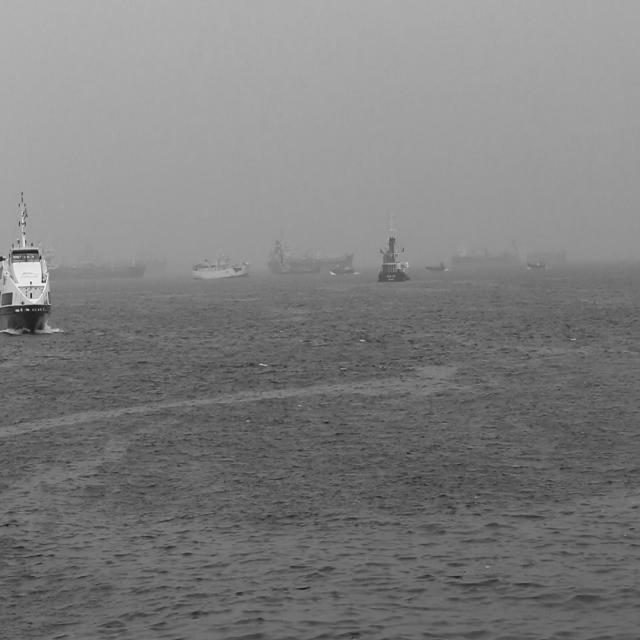ship: (0, 189, 52, 335), (42, 241, 148, 280), (267, 234, 356, 270), (378, 214, 408, 283), (446, 239, 520, 262), (192, 254, 252, 278), (526, 246, 570, 261), (332, 266, 355, 276), (526, 260, 547, 270), (424, 262, 446, 271)
